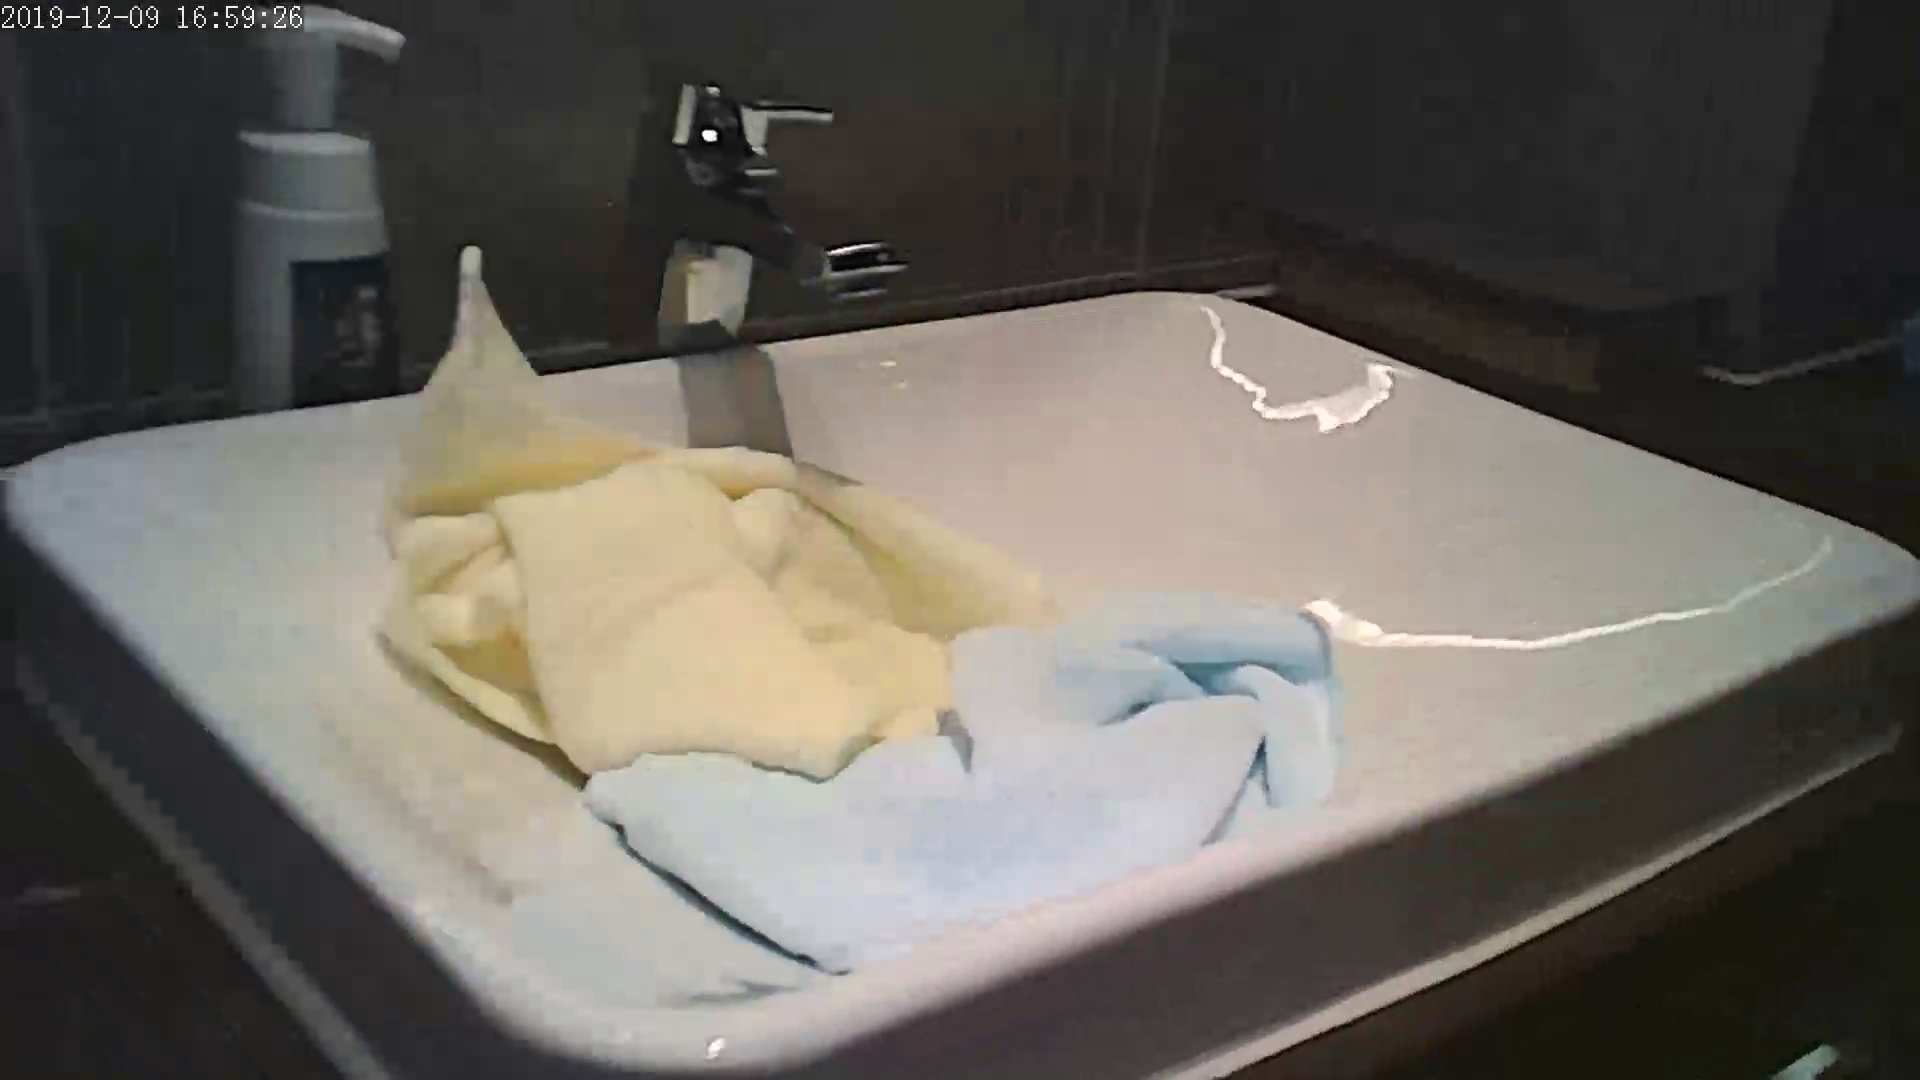bluecloth: (837, 620, 1336, 919)
sink: (11, 69, 1909, 1063)
yellowcloth: (396, 415, 864, 748)
